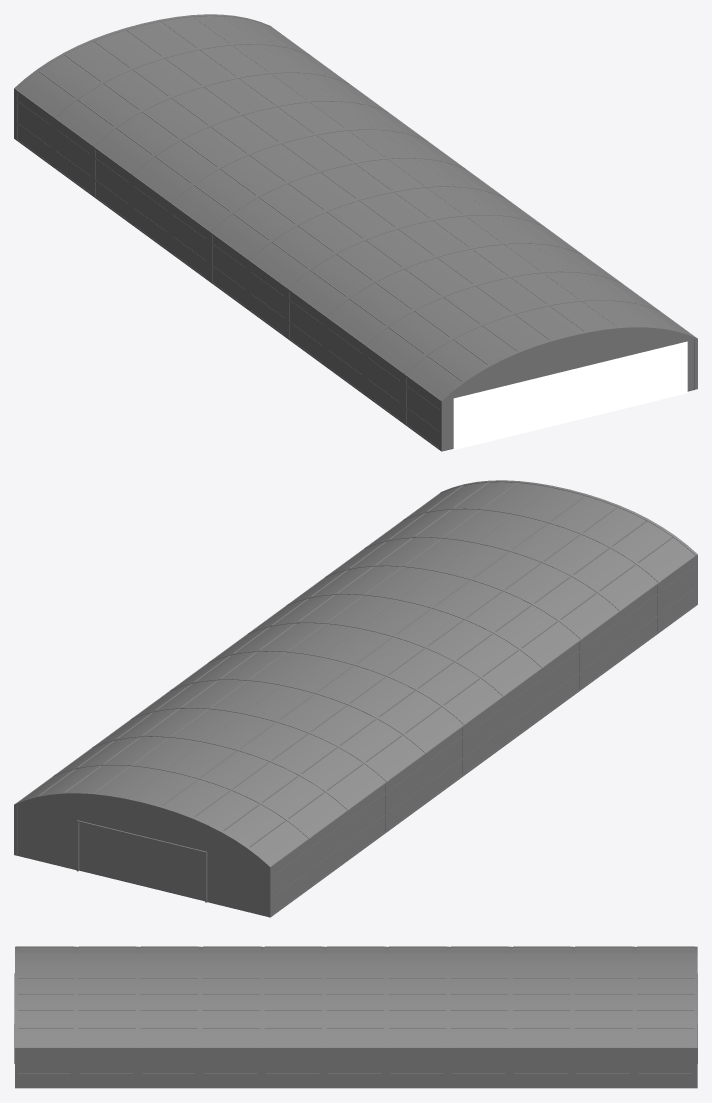
The model's file is preview_1.glb.
The picture shows the model from 3 angles, top to bottom: view 1: azimuth 30°, elevation 25°; view 2: azimuth 150°, elevation 25°; view 3: azimuth 270°, elevation 25°; orthographic projection. The views are drawn at different scales.
Parts seen in each view (by area): view 1: Empty; view 2: Empty; view 3: Empty.
Boxes of the visible parts, x1,y1,x2,y2 form: Empty: (14,14,697,451); Empty: (14,480,697,917); Empty: (14,946,697,1088).
Bounding box in the file's own units: 23.8 × 7.54 × 68.87.
Materials: 20 (15 with a texture image).
